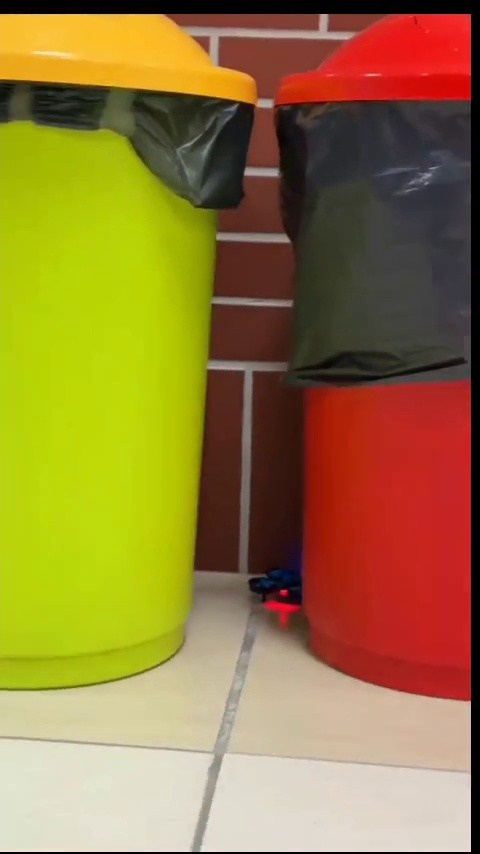drone: (247, 565, 301, 607)
